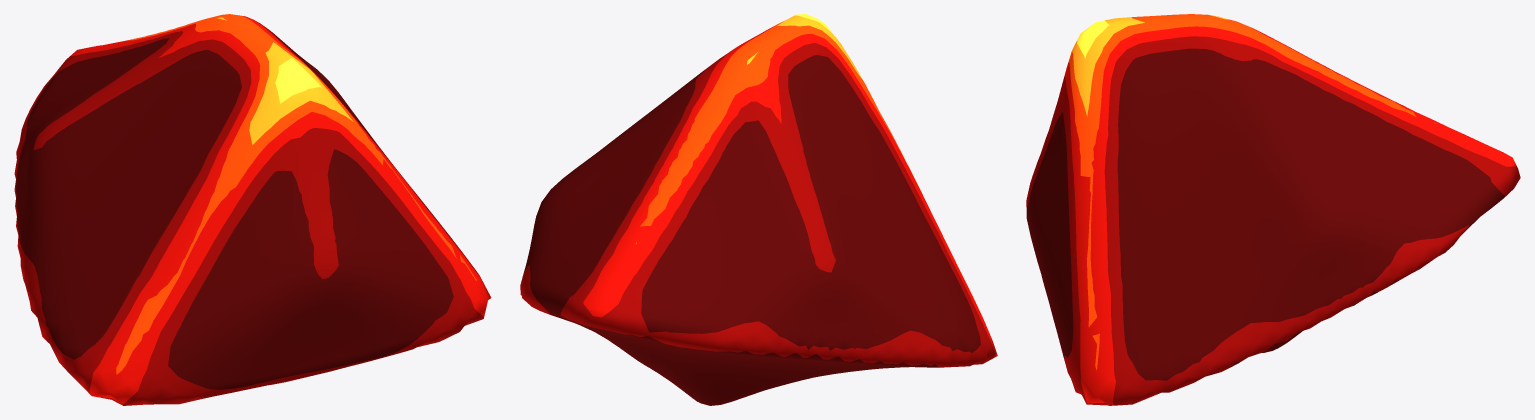
File: molten_crystal_117.glb
3 renders of one model, left to right at view 1: azimuth 30°, elevation 25°; view 2: azimuth 150°, elevation 25°; view 3: azimuth 270°, elevation 25°, orthographic. The views are drawn at different scales.
Parts seen in each view (by area): view 1: molten_crystal_117; view 2: molten_crystal_117; view 3: molten_crystal_117.
Boxes of the visible parts, x1=… form: molten_crystal_117: x1=14, y1=14, x2=491, y2=405; molten_crystal_117: x1=520, y1=14, x2=997, y2=405; molten_crystal_117: x1=1026, y1=14, x2=1520, y2=405.
Size of the model in its own units: 19.18 by 14.94 by 20.41.
